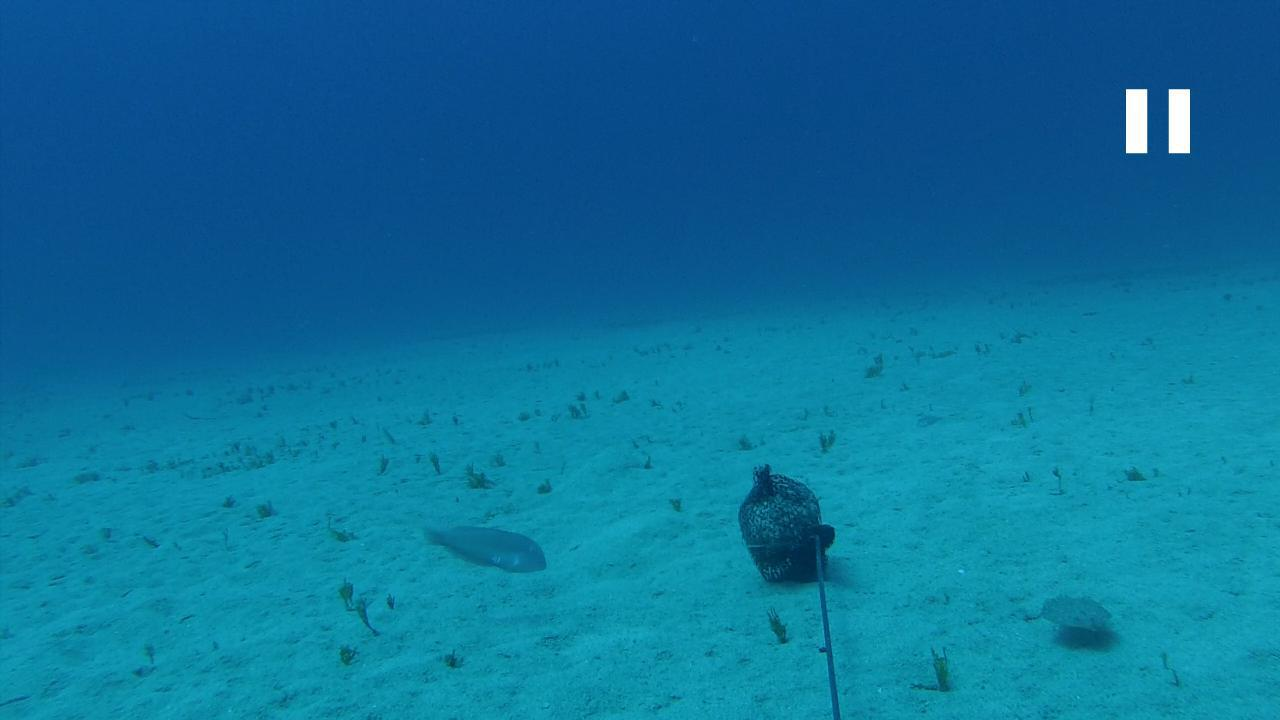bothus: (1039, 589, 1114, 638)
raor: (421, 523, 549, 580)
